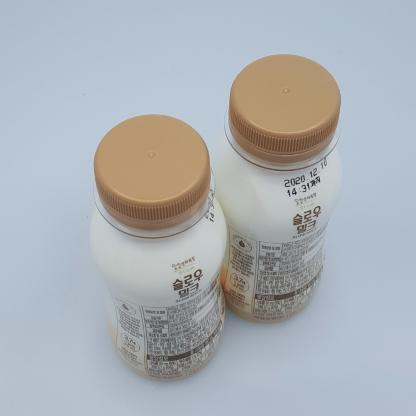----------180ML: (206, 54, 344, 324), (89, 114, 228, 381)
